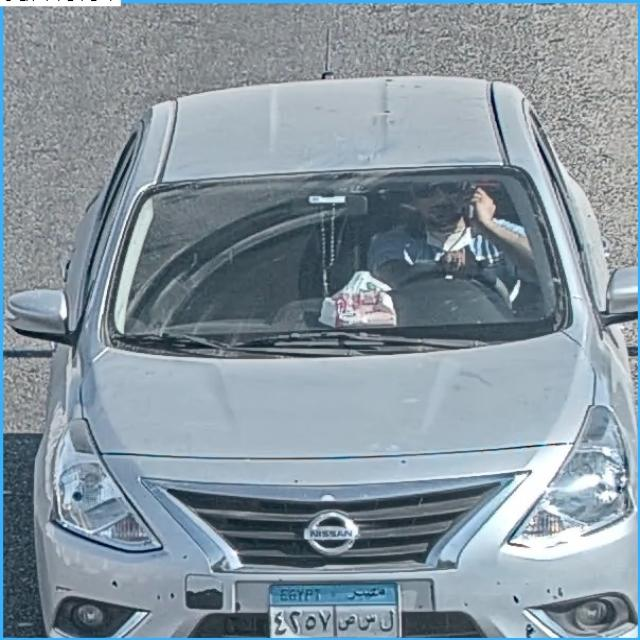windshield: (102, 170, 557, 347)
